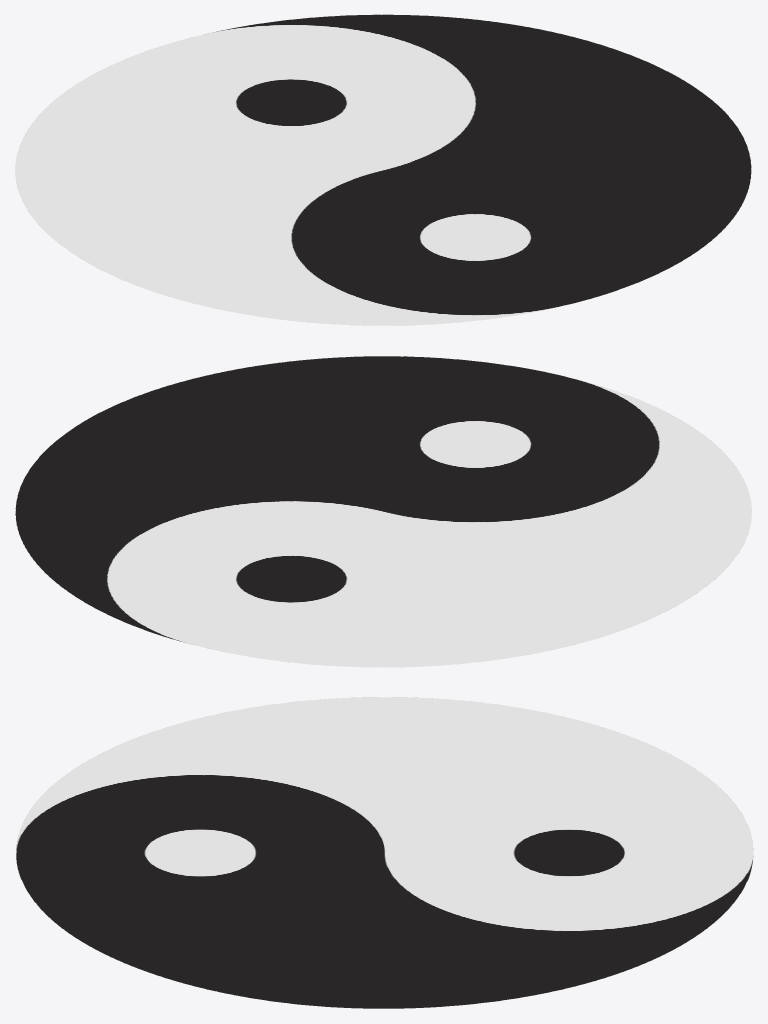
File: Iunisolar.fbx
The picture shows the model from 3 angles, top to bottom: view 1: azimuth 30°, elevation 25°; view 2: azimuth 150°, elevation 25°; view 3: azimuth 270°, elevation 25°; orthographic projection.
Parts seen in each view (by area): view 1: pCylinder1; view 2: pCylinder1; view 3: pCylinder1.
Boxes of the visible parts, bbox=[...] form: pCylinder1: bbox=[15, 14, 751, 325]; pCylinder1: bbox=[15, 356, 751, 667]; pCylinder1: bbox=[16, 697, 753, 1008].
Bounding box in the file's own units: 2 × 0 × 2.
1 material, 1 textured.
